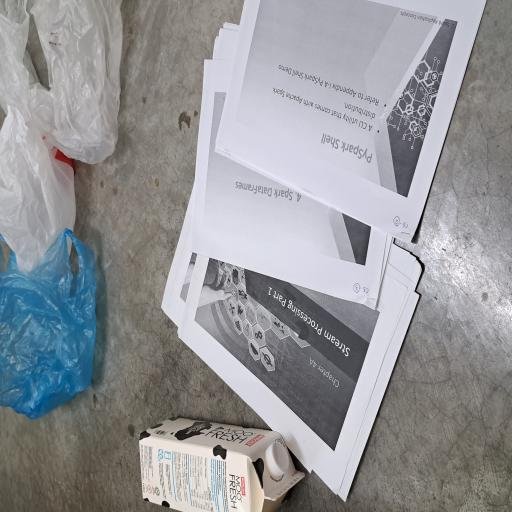drink carton: (0, 184, 74, 408)
paper: (3, 214, 383, 512)
plastic bag: (69, 0, 212, 129), (261, 40, 384, 161), (179, 0, 303, 99)
plastic bottle cap: (25, 355, 54, 385)
